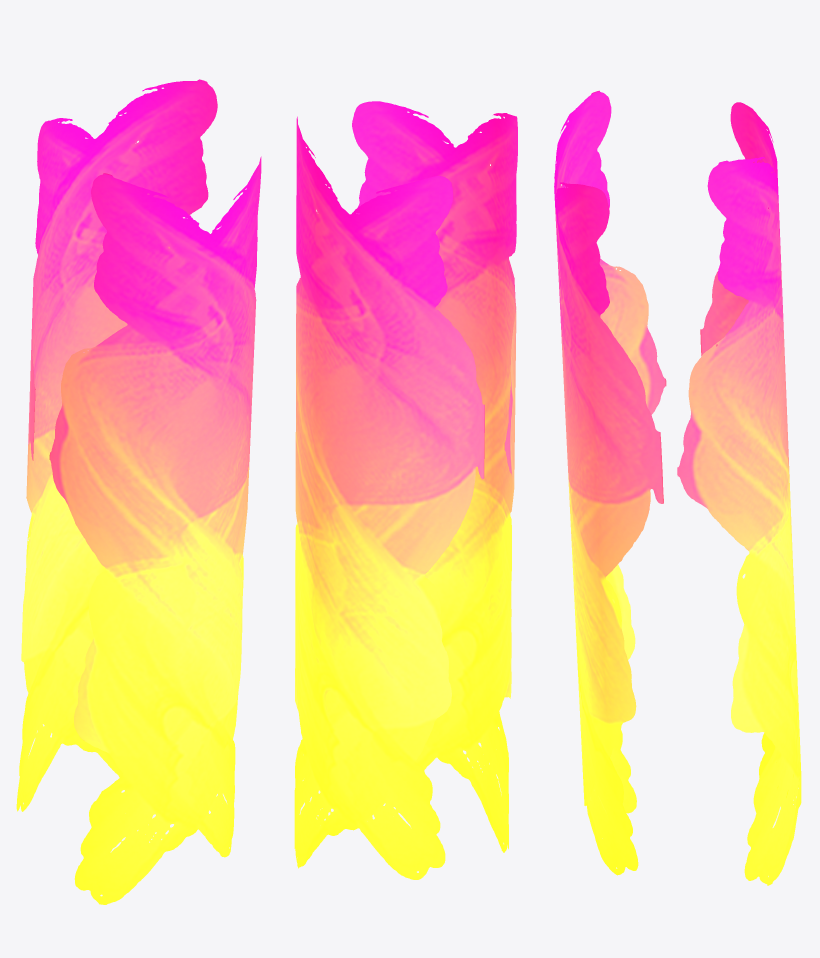
The model's file is cilinder2.gltf.
3 views of the same model, side by side, from view 1: azimuth 30°, elevation 25°; view 2: azimuth 150°, elevation 25°; view 3: azimuth 270°, elevation 25° (orthographic).
Visible parts, largest first — view 1: Cylinder; view 2: Cylinder; view 3: Cylinder.
Boxes of the visible parts, x1=… form: Cylinder: x1=16, y1=79, x2=261, y2=904; Cylinder: x1=294, y1=101, x2=517, y2=879; Cylinder: x1=554, y1=90, x2=801, y2=885.
Bounding box in the file's own units: 2.33 × 9.28 × 2.56.
1 material, 1 textured.
